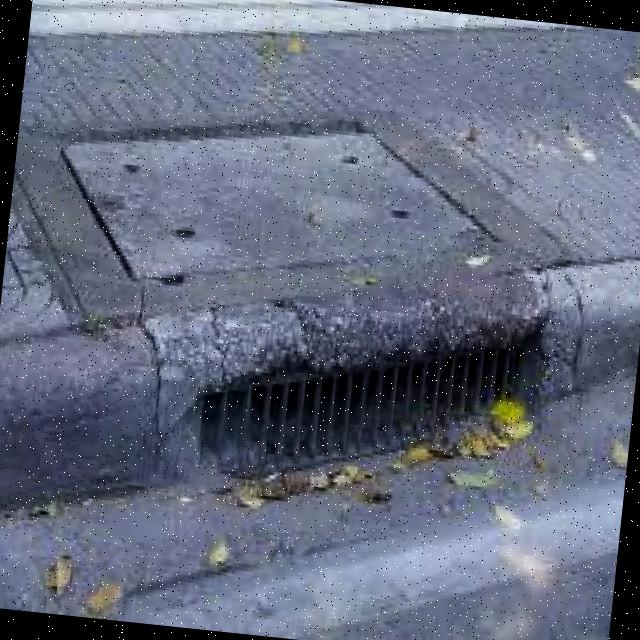curb: (1, 256, 640, 518)
